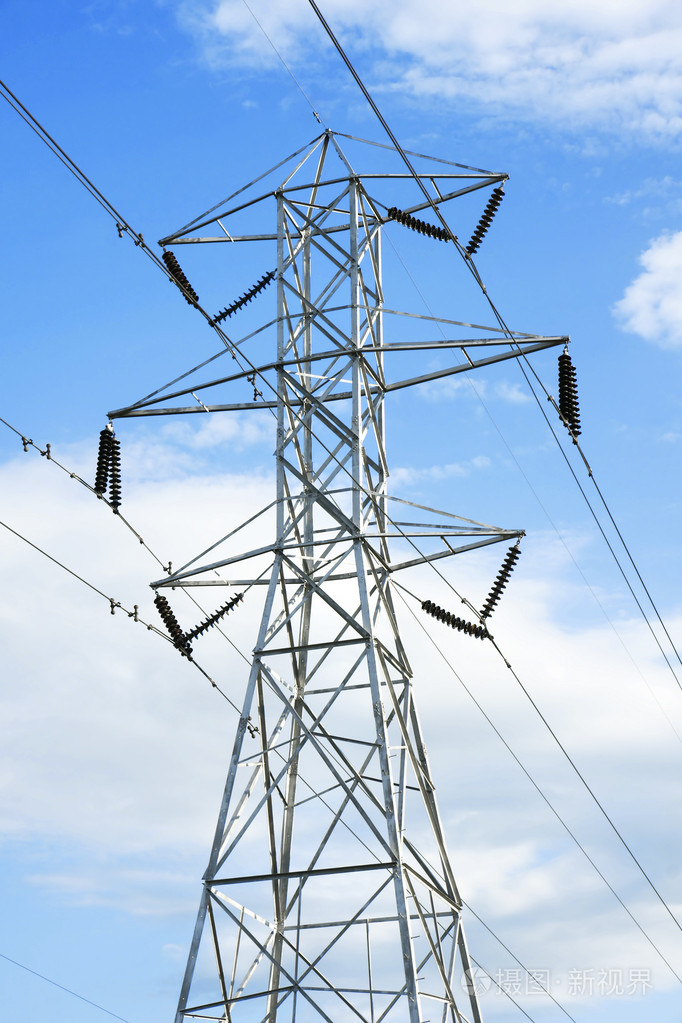insulator: (216, 267, 275, 321), (89, 426, 125, 509), (424, 601, 490, 643), (188, 589, 240, 636), (484, 545, 516, 618), (468, 187, 502, 253), (164, 248, 204, 304), (158, 594, 189, 653), (391, 207, 450, 238), (558, 353, 580, 433)
